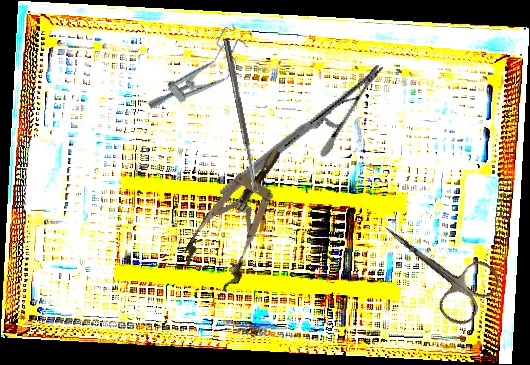Iris Scissors: (365, 199, 505, 332)
Needle Holder: (219, 27, 385, 234)
Speculum: (176, 135, 306, 296), (141, 21, 258, 129)
Surgical Spoon: (222, 37, 259, 194)
